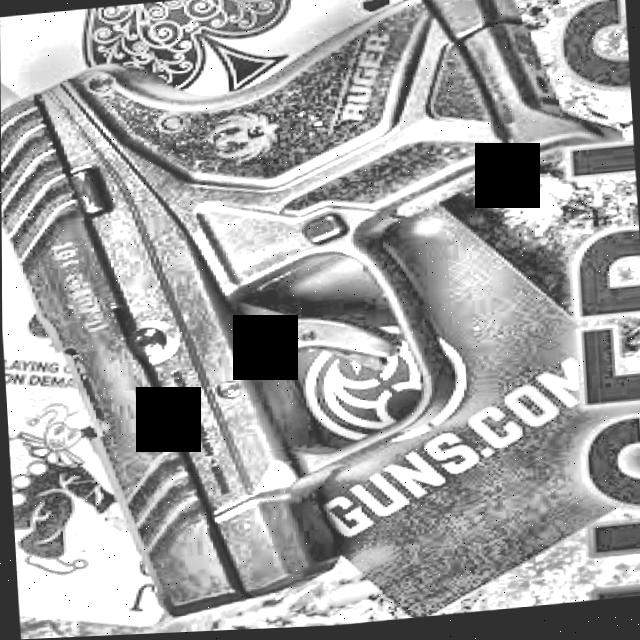Ruger: (0, 0, 640, 640), (0, 0, 640, 638)
